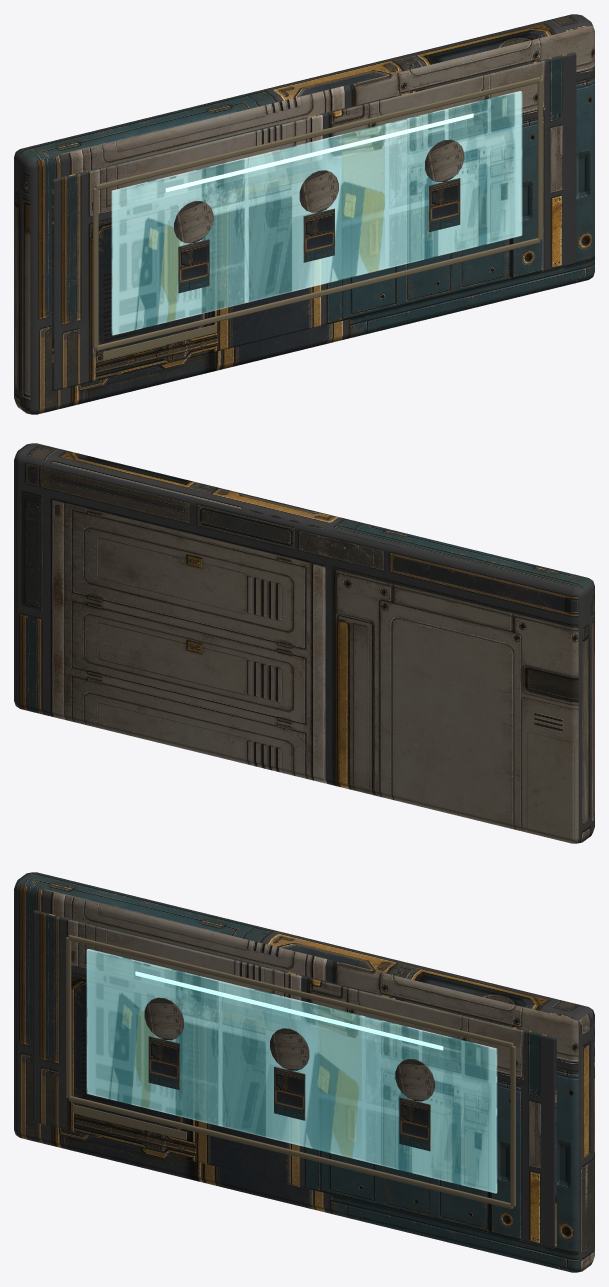
The model's file is hp_room_residential_observation_window.glb.
3 renders of one model, top to bottom at view 1: azimuth 30°, elevation 25°; view 2: azimuth 150°, elevation 25°; view 3: azimuth 330°, elevation 25°, orthographic.
Parts seen in each view (by area): view 1: absent_observer_body_0, smoked_lab_window_glass, observation_wall_backplate, observation_frame_bottom, cyan_one_way_glass_scan; view 2: observation_wall_backplate; view 3: absent_observer_body_0, smoked_lab_window_glass, observation_wall_backplate, observation_frame_bottom, cyan_one_way_glass_scan.
Part boxes in pixels (<box>): absent_observer_body_0: <box>52,52,576,390</box>; smoked_lab_window_glass: <box>111,91,522,335</box>; observation_wall_backplate: <box>14,14,594,414</box>; observation_frame_bottom: <box>93,77,542,360</box>; cyan_one_way_glass_scan: <box>165,113,473,192</box>; observation_wall_backplate: <box>14,443,594,843</box>; absent_observer_body_0: <box>32,910,556,1248</box>; smoked_lab_window_glass: <box>86,949,497,1193</box>; observation_wall_backplate: <box>14,872,594,1272</box>; observation_frame_bottom: <box>66,935,515,1208</box>; cyan_one_way_glass_scan: <box>135,971,443,1050</box>.
Bounding box in the file's own units: 3.9 × 1.69 × 0.296.
Materials: 5 (3 with a texture image).
